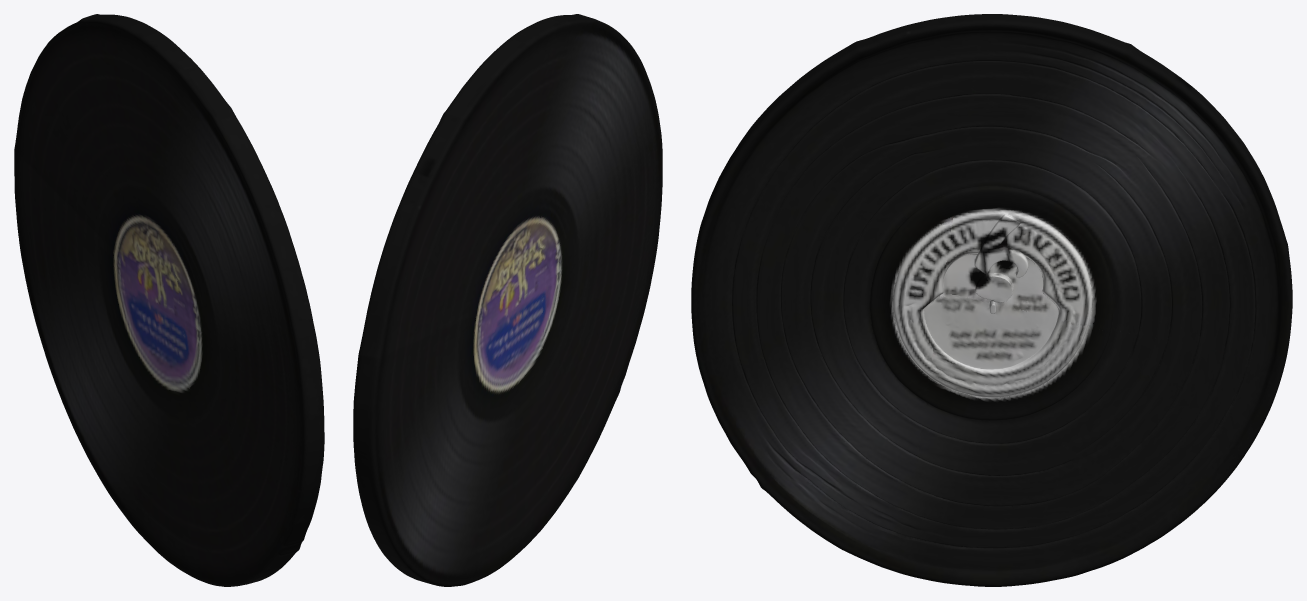
File: WhiteLP.fbx
The picture shows the model from 3 angles, left to right: view 1: azimuth 30°, elevation 25°; view 2: azimuth 150°, elevation 25°; view 3: azimuth 270°, elevation 25°; orthographic projection. The views are drawn at different scales.
Parts seen in each view (by area): view 1: tripo_node_ab1bbce0.001; view 2: tripo_node_ab1bbce0.001; view 3: tripo_node_ab1bbce0.001.
Boxes of the visible parts, x1=… form: tripo_node_ab1bbce0.001: x1=14, y1=14, x2=324, y2=586; tripo_node_ab1bbce0.001: x1=353, y1=14, x2=662, y2=586; tripo_node_ab1bbce0.001: x1=691, y1=14, x2=1292, y2=586.
Size of the model in its own units: 3.01 by 31.25 by 30.83.
Materials: 1 (1 with a texture image).
